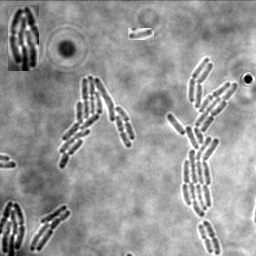Dividing: (204, 219, 222, 255), (199, 223, 215, 253)
Microcolony: (167, 57, 238, 216), (59, 75, 136, 169), (8, 5, 39, 71), (30, 204, 72, 251), (1, 200, 26, 255)
Rod: (128, 28, 154, 40)
